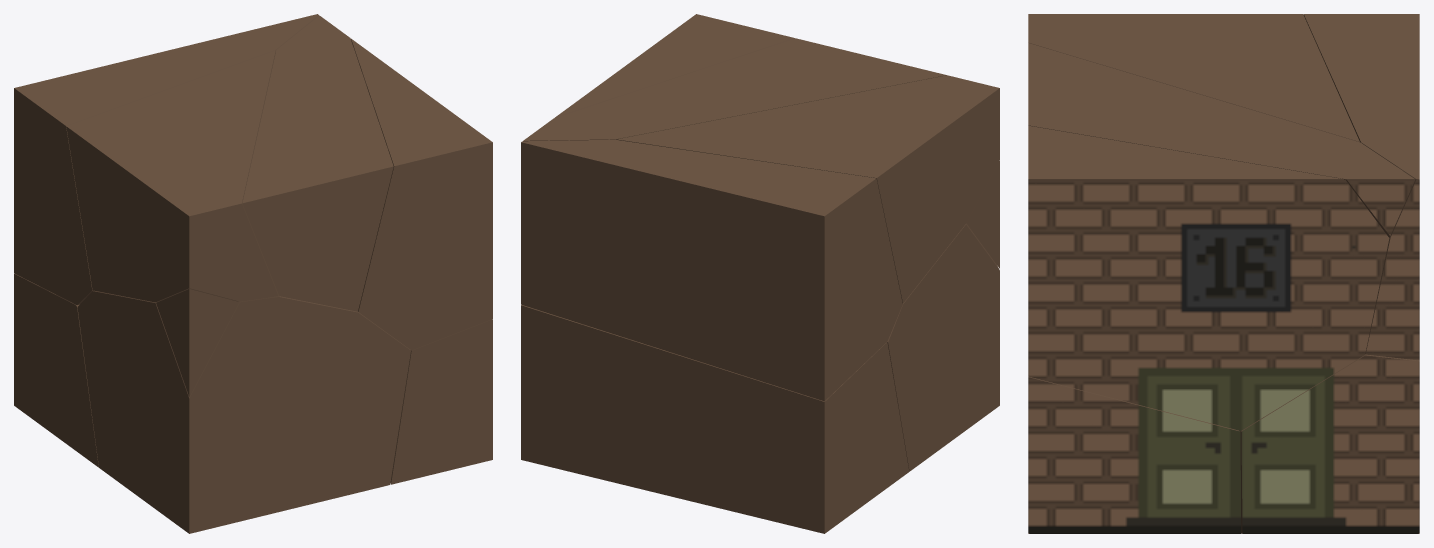
File: BrickBuildingBrown128x128_Ground02_break.fbx
3 views of the same model, side by side, from view 1: azimuth 30°, elevation 25°; view 2: azimuth 150°, elevation 25°; view 3: azimuth 270°, elevation 25° (orthographic). The views are drawn at different scales.
Parts seen in each view (by area): view 1: Ground02Break03, Ground02Break05, Ground02Break02, Ground02Break06, Ground02Break04, Ground02Break08, Ground02Break07, Ground02Break01; view 2: Ground02Break04, Ground02Break07, Ground02Break05, Ground02Break03, Ground02Break02, Ground02Break06, Ground02Break01; view 3: Ground02Break06, Ground02Break08, Ground02Break07, Ground02Break02, Ground02Break05, Ground02Break04.
Boxes of the visible parts, left/top/right/bottom form: Ground02Break03: left=77, top=290, right=410, bottom=533; Ground02Break05: left=66, top=50, right=278, bottom=302; Ground02Break02: left=242, top=15, right=393, bottom=311; Ground02Break06: left=351, top=38, right=492, bottom=350; Ground02Break04: left=14, top=14, right=318, bottom=304; Ground02Break08: left=390, top=319, right=492, bottom=484; Ground02Break07: left=14, top=273, right=98, bottom=467; Ground02Break01: left=156, top=289, right=239, bottom=396; Ground02Break04: left=521, top=139, right=902, bottom=401; Ground02Break07: left=521, top=305, right=909, bottom=533; Ground02Break05: left=616, top=75, right=999, bottom=303; Ground02Break03: left=886, top=223, right=999, bottom=471; Ground02Break02: left=523, top=38, right=946, bottom=141; Ground02Break06: left=555, top=14, right=794, bottom=117; Ground02Break01: left=966, top=160, right=999, bottom=268; Ground02Break06: left=1028, top=125, right=1389, bottom=430; Ground02Break08: left=1028, top=376, right=1241, bottom=533; Ground02Break07: left=1239, top=354, right=1419, bottom=533; Ground02Break02: left=1028, top=43, right=1415, bottom=236; Ground02Break05: left=1028, top=14, right=1359, bottom=142; Ground02Break04: left=1303, top=14, right=1419, bottom=360.
Size of the model in its own units: 100 by 100 by 100.
1 material, 1 textured.
